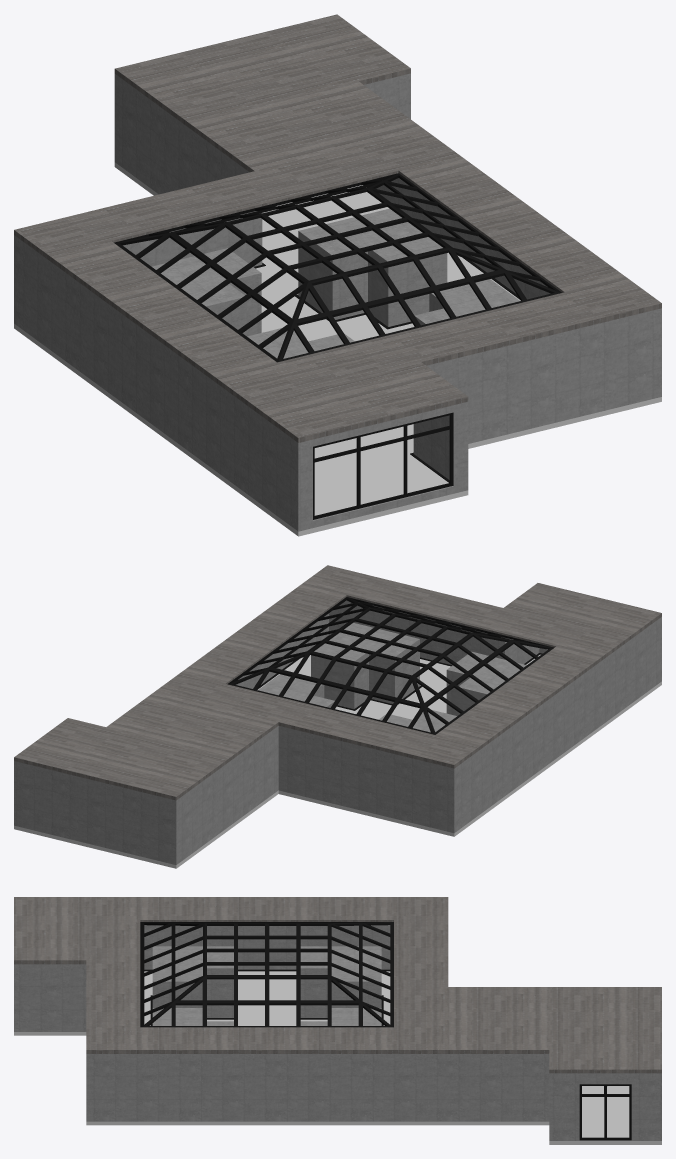
The model's file is Gallery_1.FBX.
3 views of the same model, one above another, from view 1: azimuth 30°, elevation 25°; view 2: azimuth 150°, elevation 25°; view 3: azimuth 270°, elevation 25° (orthographic). The views are drawn at different scales.
Parts seen in each view (by area): view 1: Ceiling, Wall, Etc, floor; view 2: Wall, Ceiling, Etc, floor; view 3: Wall, Ceiling, Etc, floor.
Part boxes in pixels (left/top/right/bottom): Ceiling: left=14, top=14, right=661, bottom=442; Wall: left=14, top=73, right=661, bottom=531; Etc: left=114, top=173, right=561, bottom=519; floor: left=14, top=162, right=661, bottom=536; Wall: left=14, top=600, right=661, bottom=864; Ceiling: left=14, top=565, right=661, bottom=800; Etc: left=227, top=597, right=554, bottom=734; floor: left=14, top=654, right=661, bottom=868; Wall: left=14, top=925, right=661, bottom=1140; Ceiling: left=14, top=897, right=661, bottom=1073; Etc: left=140, top=922, right=631, bottom=1140; floor: left=14, top=971, right=661, bottom=1144.
Bounding box in the file's own units: 19.62 × 5.26 × 31.14.
